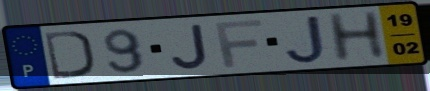9: (101, 26, 148, 76)
D: (41, 29, 96, 81)
F: (212, 18, 265, 69)
H: (323, 9, 389, 65)
J: (283, 14, 329, 66), (169, 22, 211, 71)
